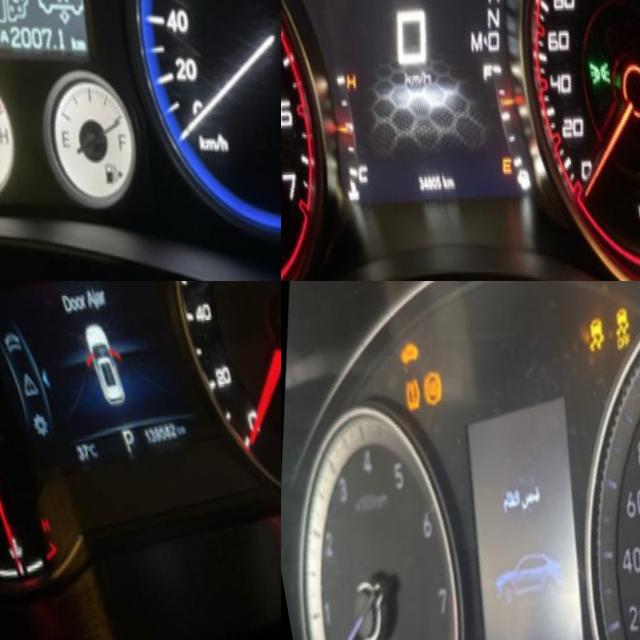security: (389, 336, 423, 371)
